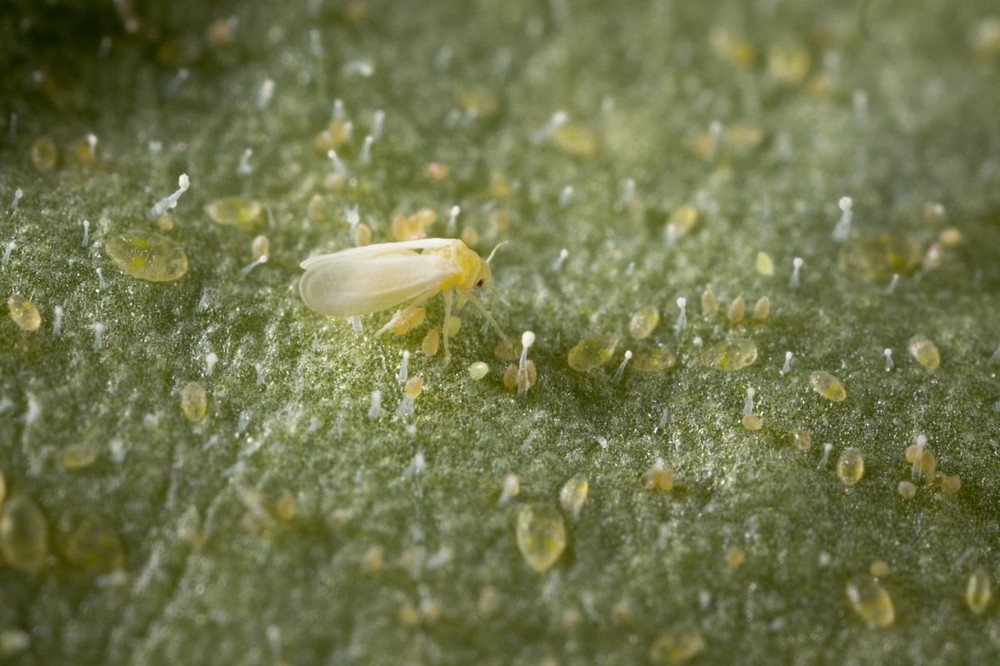Mosca Blanca: (275, 201, 543, 372)
